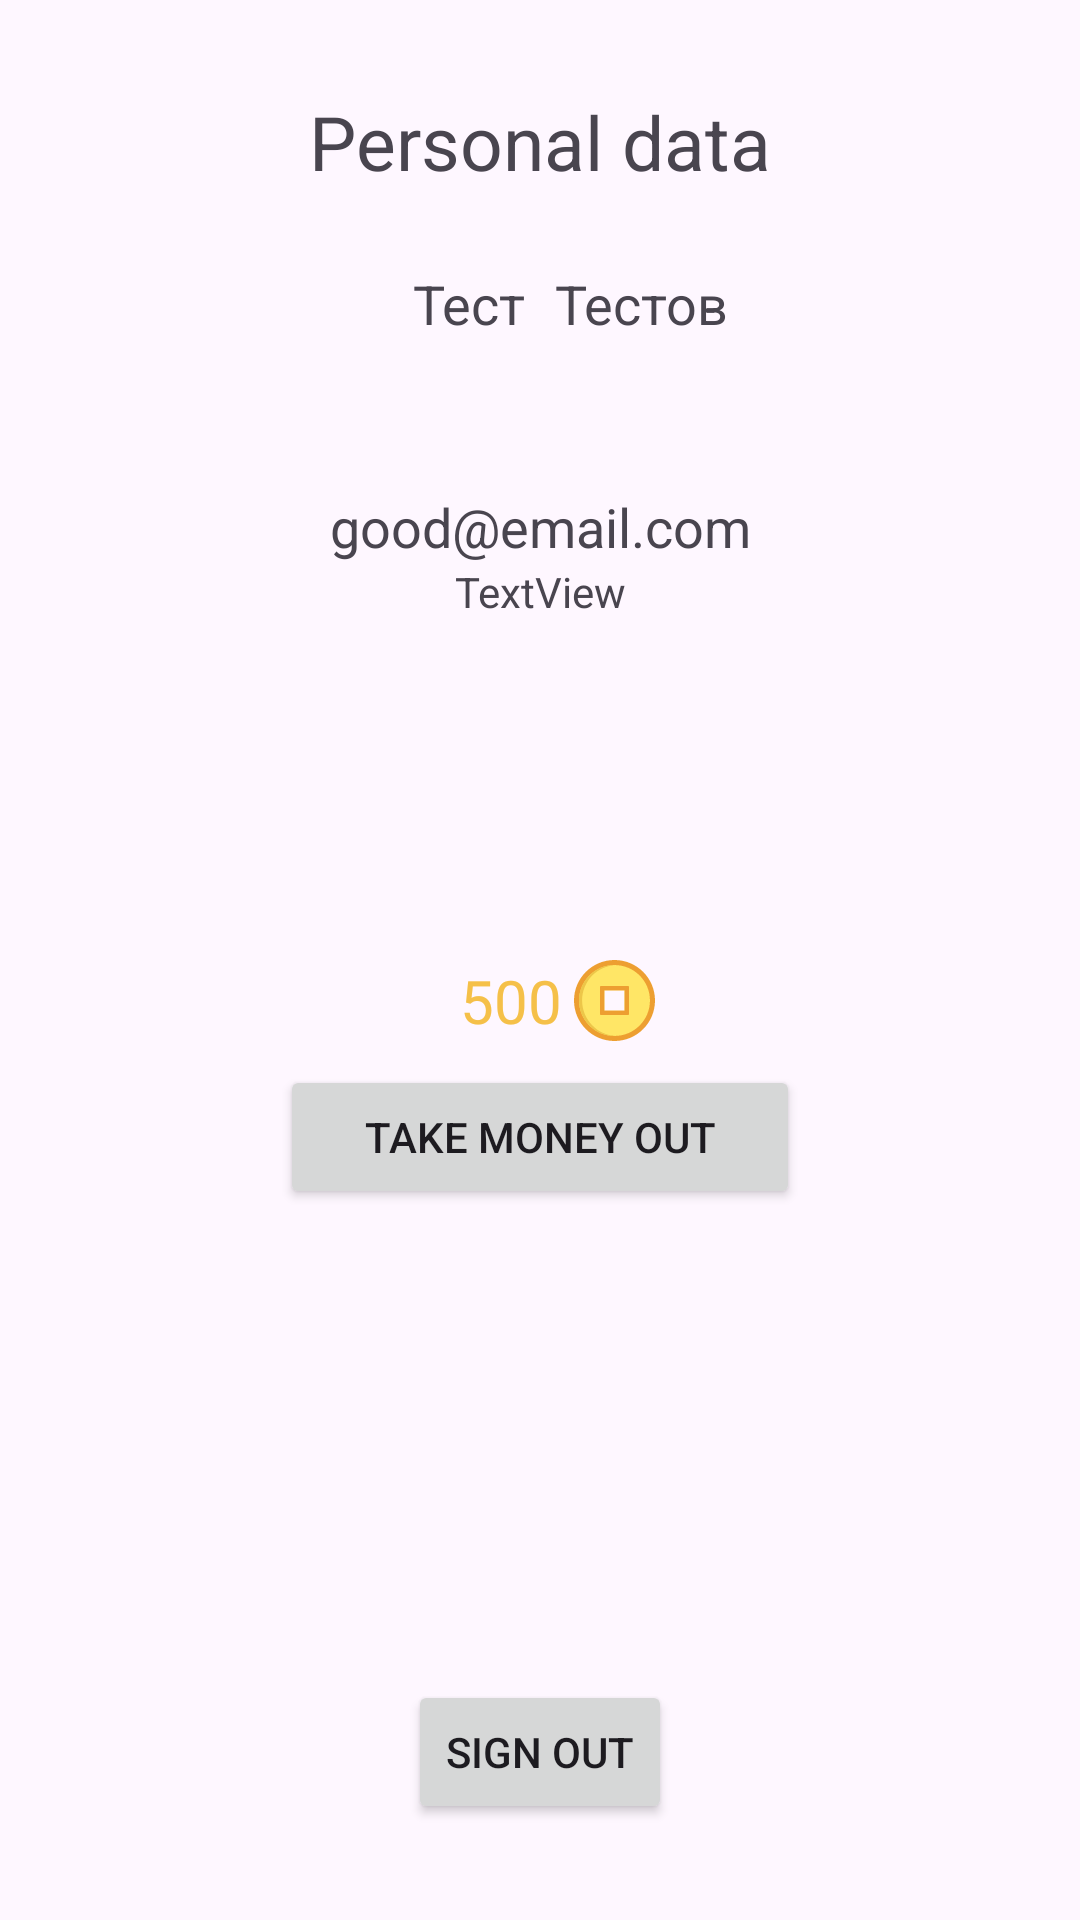

Locate icon controls on the screen. Image size 1080 × 1920, boxes as (x1, y1, x2, y2).
admin machines coin: (574, 960, 655, 1041)
